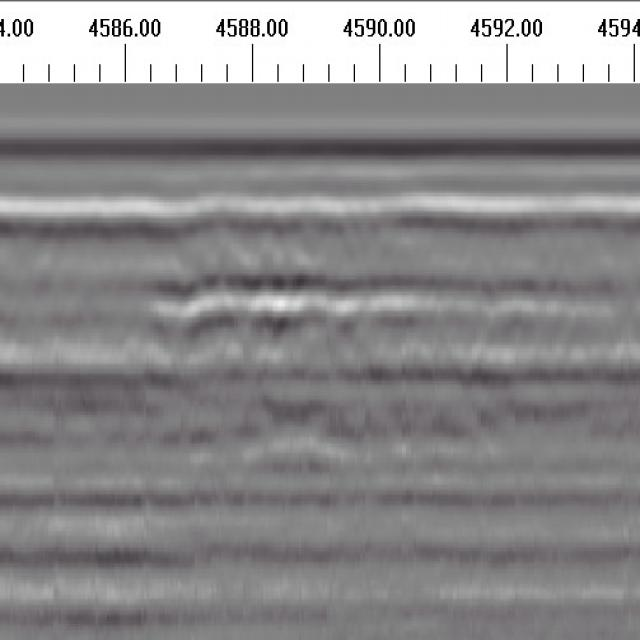loose: (161, 270, 383, 352)
